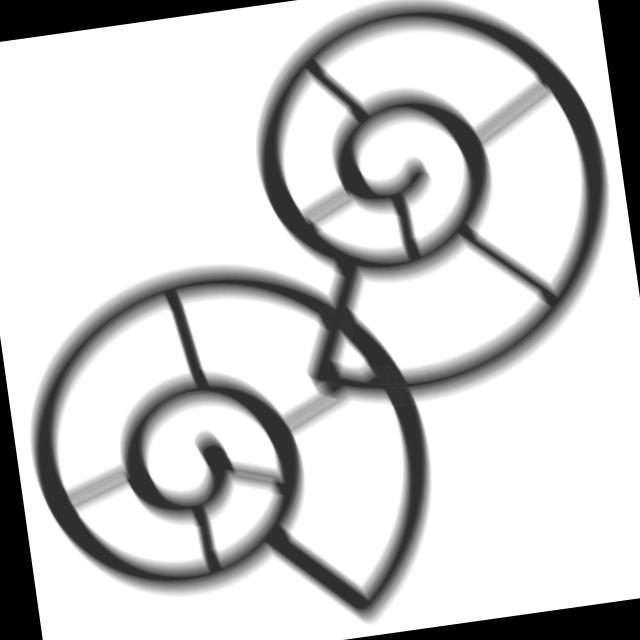fossil: (2, 227, 464, 640), (219, 1, 640, 436)
